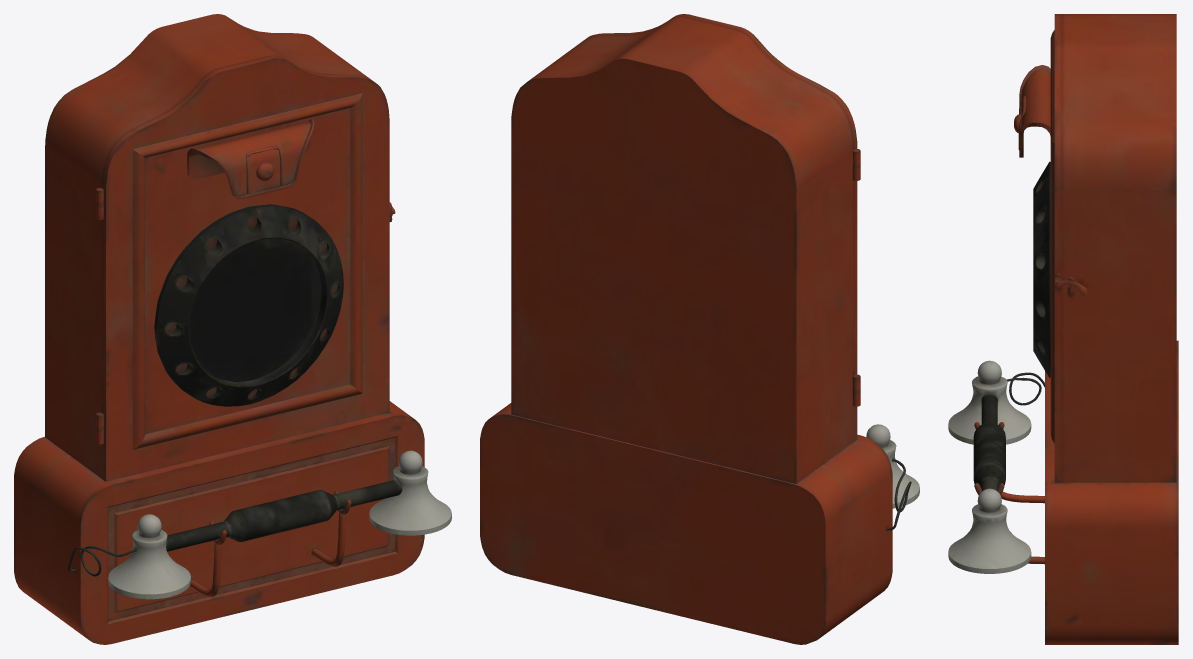
Rendered from vintage_telephone_wall_clock.glb.
3 views of the same model, side by side, from view 1: azimuth 30°, elevation 25°; view 2: azimuth 150°, elevation 25°; view 3: azimuth 270°, elevation 25° (orthographic).
Visible parts, largest first — view 1: vintage_telephone_wall_clock; view 2: vintage_telephone_wall_clock; view 3: vintage_telephone_wall_clock.
Part boxes in pixels (x1=…): vintage_telephone_wall_clock: x1=14, y1=14, x2=451, y2=644; vintage_telephone_wall_clock: x1=480, y1=14, x2=919, y2=644; vintage_telephone_wall_clock: x1=948, y1=14, x2=1178, y2=644.
Size of the model in its own units: 0.3428 by 0.5012 by 0.1925.
Materials: 2 (2 with a texture image).
